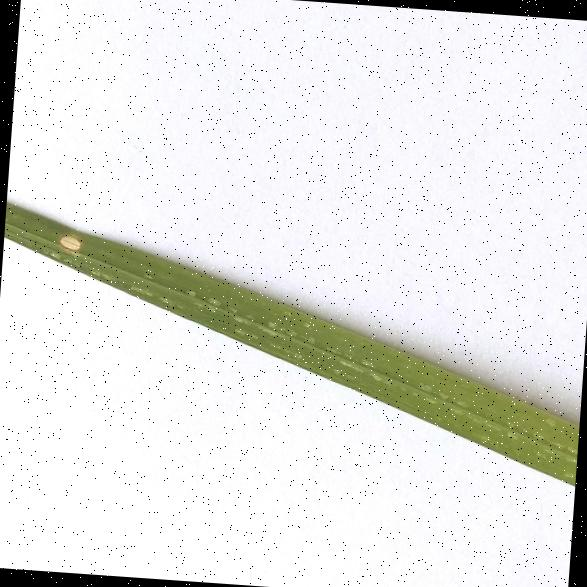Leaf_smut: (47, 222, 88, 254)
